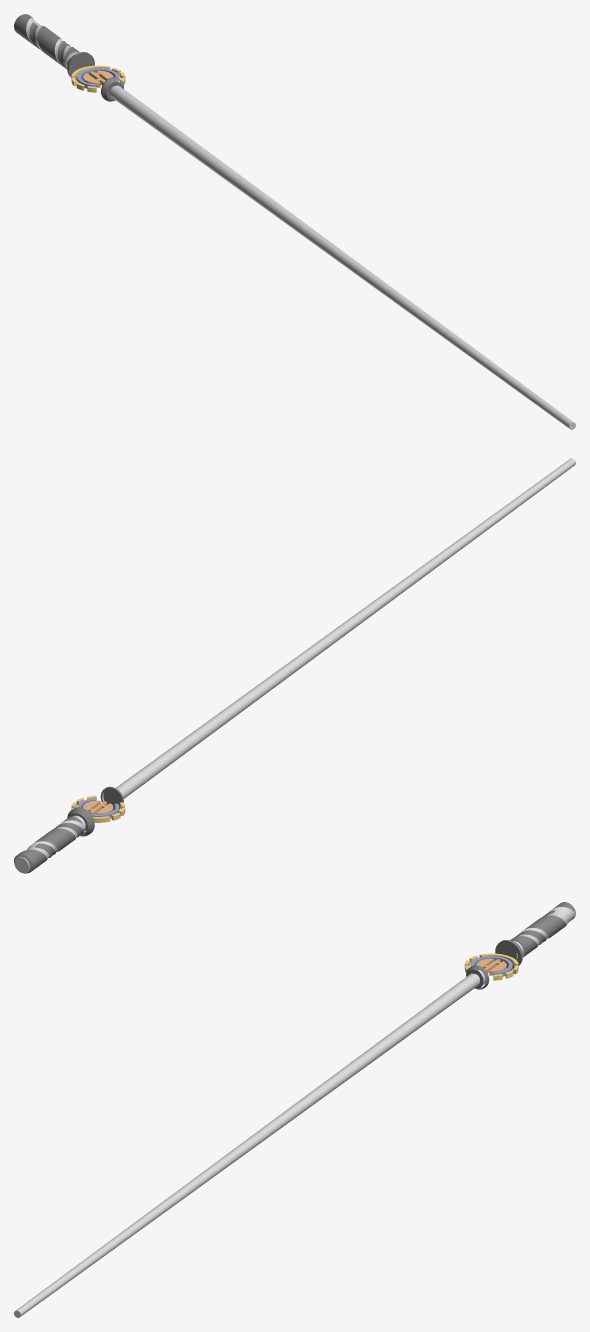
File: beatkhana.glb
3 renders of one model, top to bottom at view 1: azimuth 30°, elevation 25°; view 2: azimuth 150°, elevation 25°; view 3: azimuth 330°, elevation 25°, orthographic.
Visible parts, largest first — view 1: Left__saber__saber__1, Left__saber__handle__0; view 2: Left__saber__saber__1, Left__saber__handle__0; view 3: Left__saber__saber__1, Left__saber__handle__0.
Boxes of the visible parts, x1,y1,x2,y2 form: Left__saber__saber__1: [26, 17, 575, 429]; Left__saber__handle__0: [14, 14, 123, 101]; Left__saber__saber__1: [14, 458, 575, 873]; Left__saber__handle__0: [14, 786, 123, 873]; Left__saber__saber__1: [14, 907, 575, 1317]; Left__saber__handle__0: [466, 902, 575, 989].
Bounding box in the file's own units: 0.0574 × 0.0322 × 1.17.
